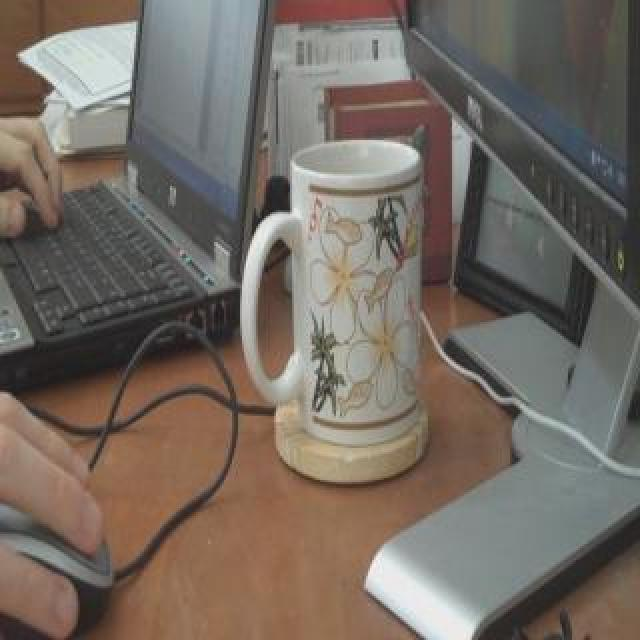laptop_computer: (0, 0, 294, 392), (408, 0, 640, 292)
mouse: (0, 485, 137, 640)
